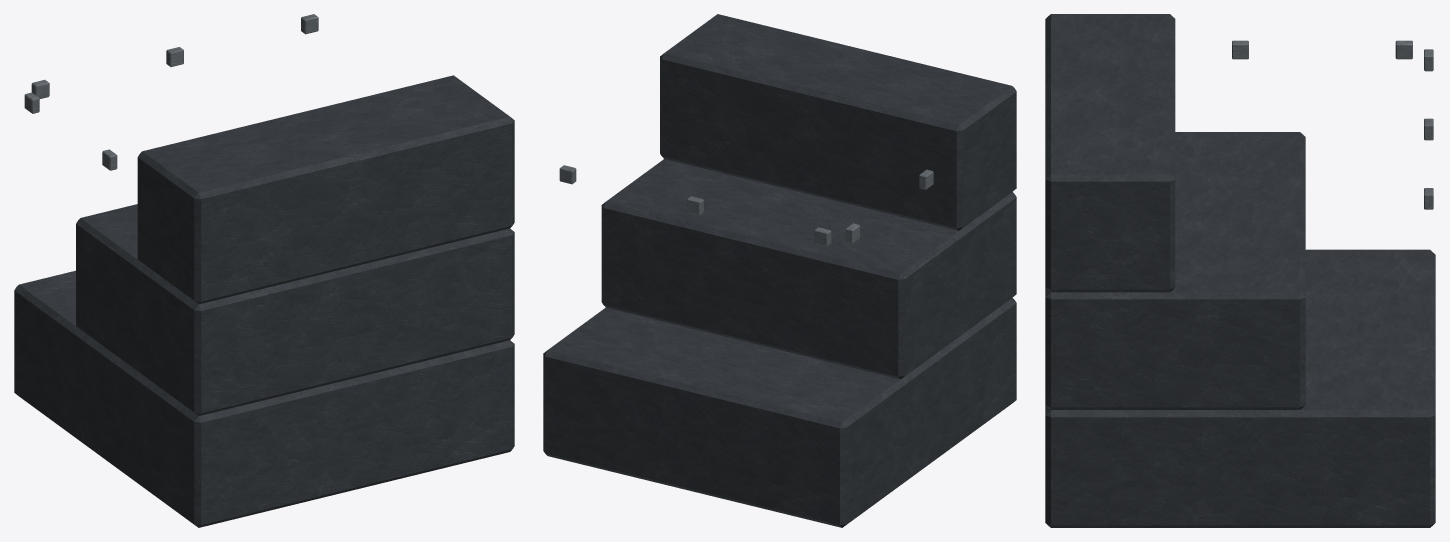
The model's file is train_dark_steel_stairs.gltf.
3 renders of one model, left to right at view 1: azimuth 30°, elevation 25°; view 2: azimuth 150°, elevation 25°; view 3: azimuth 270°, elevation 25°, orthographic. The views are drawn at different scales.
Size of the model in its own units: 1 by 1 by 1.
2 materials, 2 textured.
